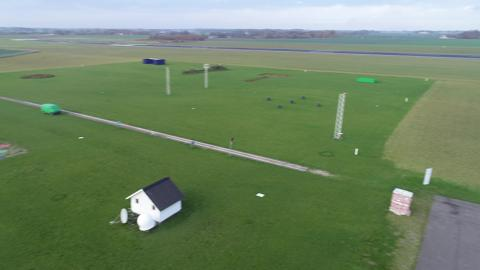RockwoolPallet: (390, 187, 415, 216)
